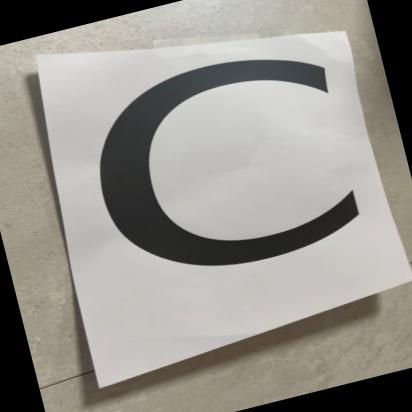seat: (42, 0, 412, 348)
